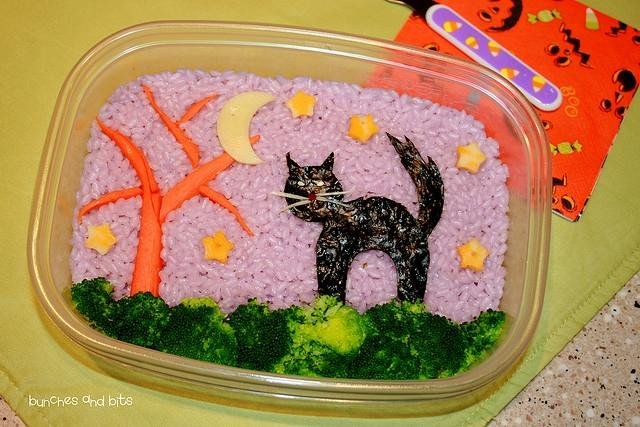broccoli: (145, 296, 241, 368), (285, 294, 374, 359), (225, 298, 293, 372), (409, 314, 467, 378), (348, 333, 422, 380), (362, 298, 432, 346), (118, 291, 174, 348), (282, 340, 354, 380), (460, 308, 506, 367), (70, 277, 116, 323)
carrot: (96, 116, 163, 297), (159, 135, 260, 227), (143, 85, 199, 169), (198, 185, 254, 237), (78, 186, 143, 224), (174, 95, 218, 124)
